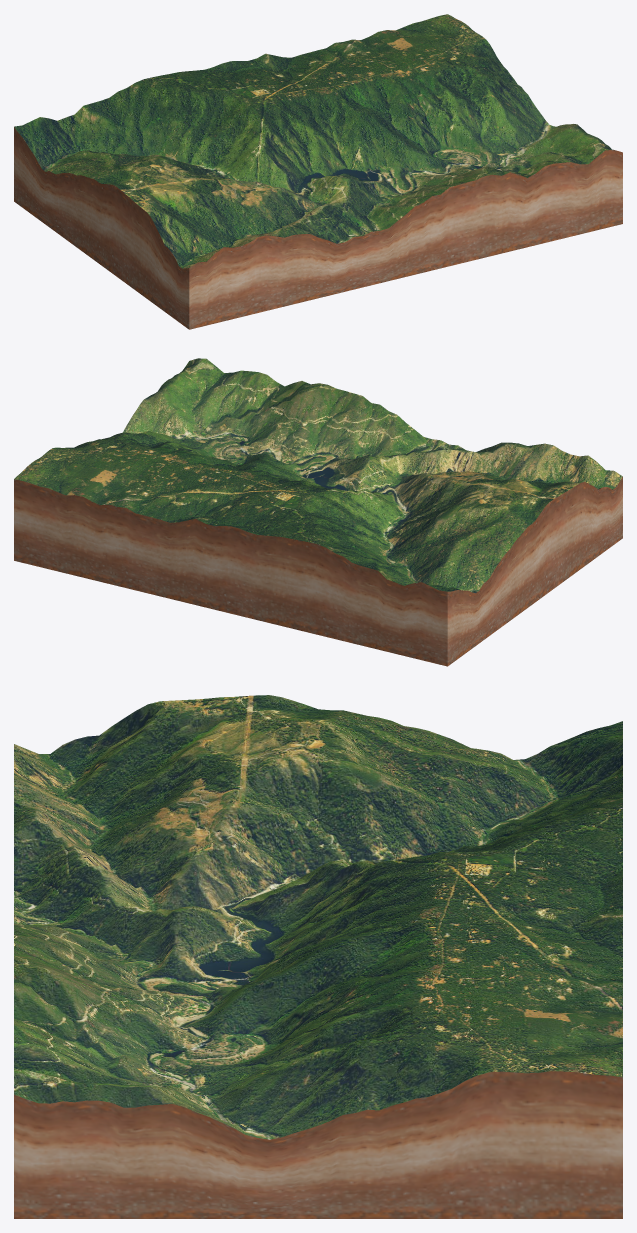
The model's file is map.glb.
3 renders of one model, top to bottom at view 1: azimuth 30°, elevation 25°; view 2: azimuth 150°, elevation 25°; view 3: azimuth 270°, elevation 25°, orthographic. The views are drawn at different scales.
Parts seen in each view (by area): view 1: mapSurface, mapEdges; view 2: mapSurface, mapEdges; view 3: mapSurface, mapEdges.
Boxes of the visible parts, x1,y1,x2,y2 form: mapSurface: [14, 14, 613, 268]; mapEdges: [14, 127, 622, 329]; mapSurface: [14, 358, 622, 592]; mapEdges: [14, 477, 622, 666]; mapSurface: [14, 695, 622, 1139]; mapEdges: [14, 1071, 622, 1218].
Size of the model in its own units: 100 by 20 by 70.
3 materials, 2 textured.
